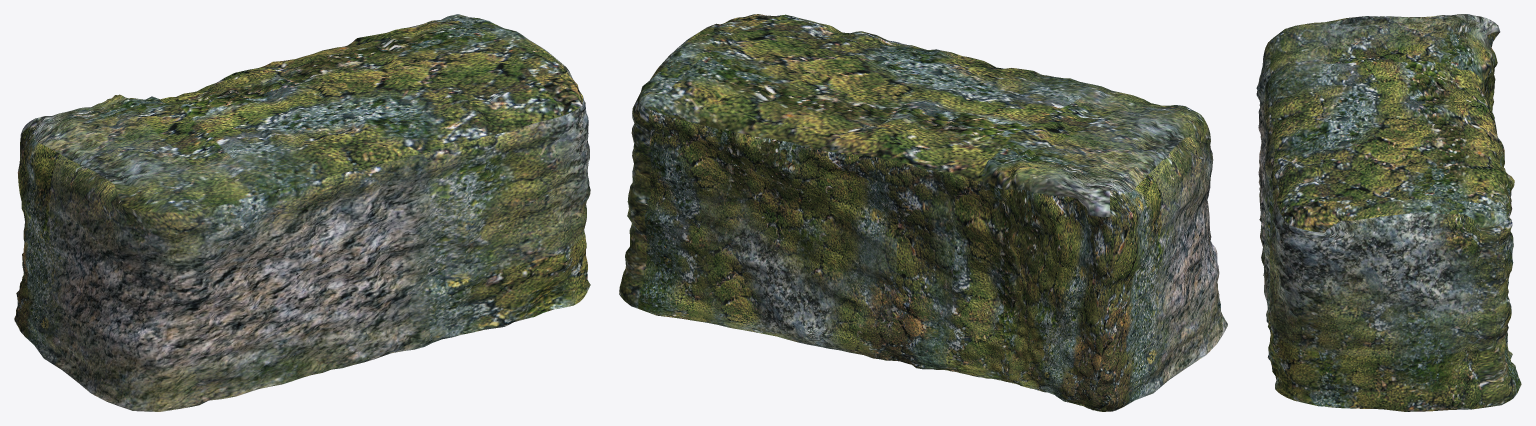
File: xuanya_1.1.fbx
3 views of the same model, side by side, from view 1: azimuth 30°, elevation 25°; view 2: azimuth 150°, elevation 25°; view 3: azimuth 270°, elevation 25° (orthographic). The views are drawn at different scales.
Visible parts, largest first — view 1: Dxuanya_1:Group2; view 2: Dxuanya_1:Group2; view 3: Dxuanya_1:Group2.
Part boxes in pixels (box(x1,y1,x2,y2)): Dxuanya_1:Group2: box(14, 14, 590, 411); Dxuanya_1:Group2: box(619, 14, 1227, 411); Dxuanya_1:Group2: box(1256, 14, 1521, 411).
Bounding box in the file's own units: 2821 × 1193 × 1435.
1 material, 1 textured.
